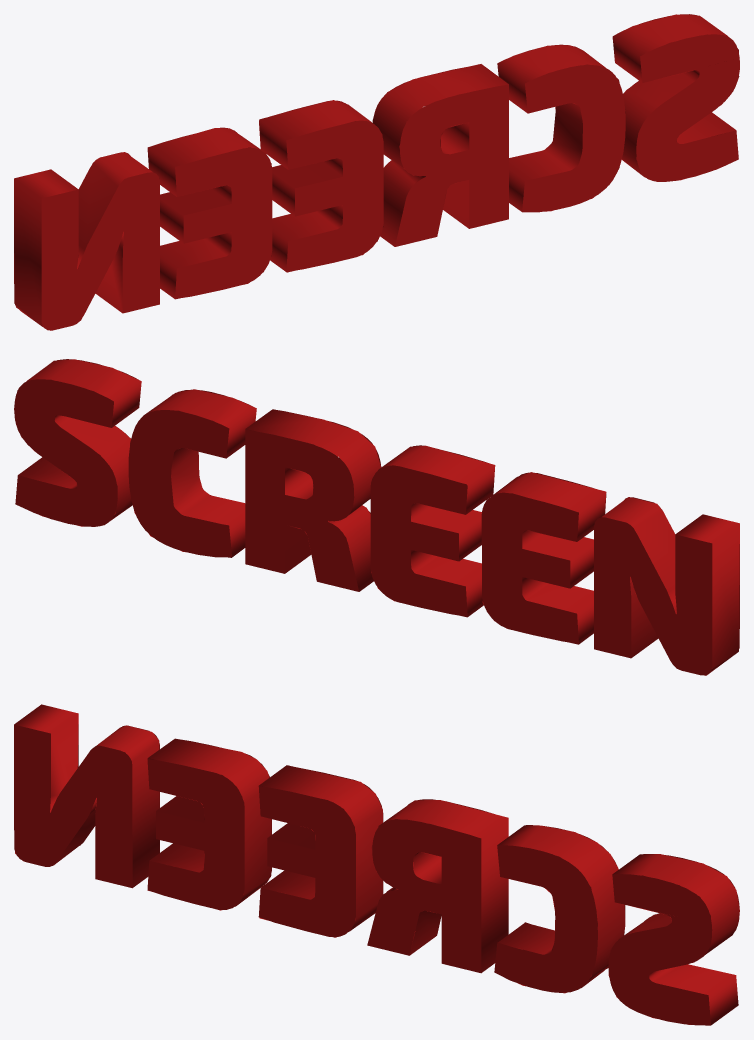
Rendered from screen.fbx.
The picture shows the model from 3 angles, top to bottom: view 1: azimuth 30°, elevation 25°; view 2: azimuth 150°, elevation 25°; view 3: azimuth 330°, elevation 25°; orthographic projection.
Visible parts, largest first — view 1: Text; view 2: Text; view 3: Text.
Part boxes in pixels (x1,y1,x2,y2): Text: (14,14,739,330); Text: (14,359,739,675); Text: (14,704,739,1025).
Size of the model in its own units: 11.72 by 2.25 by 0.8.
